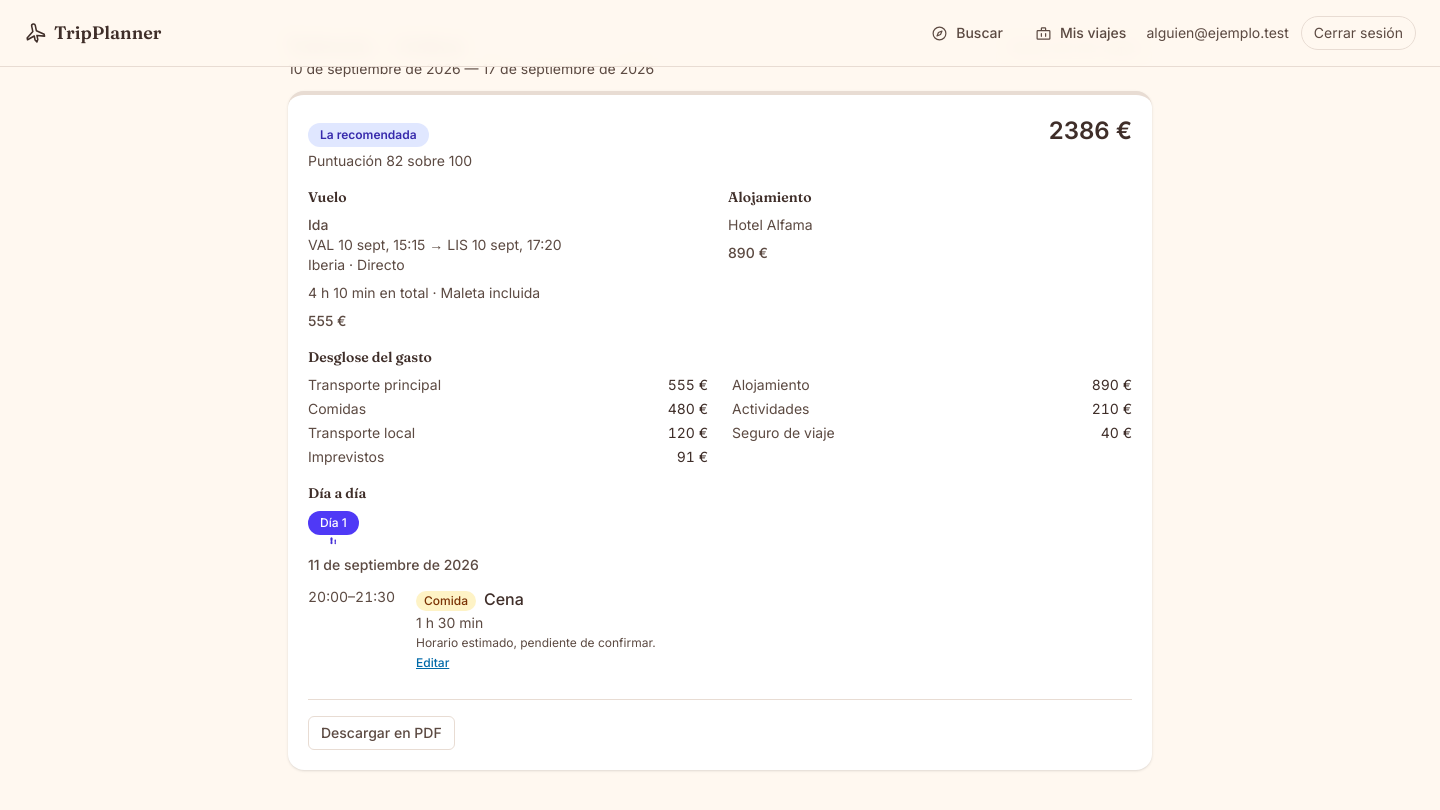
Test: Mis viajes guardados — edición del itinerario › marca el bloque como editado en cuanto el servidor confirma
(page scrolled)
Click the button "Editar" at (433, 663), box [416,655,449,671]
(page scrolled)
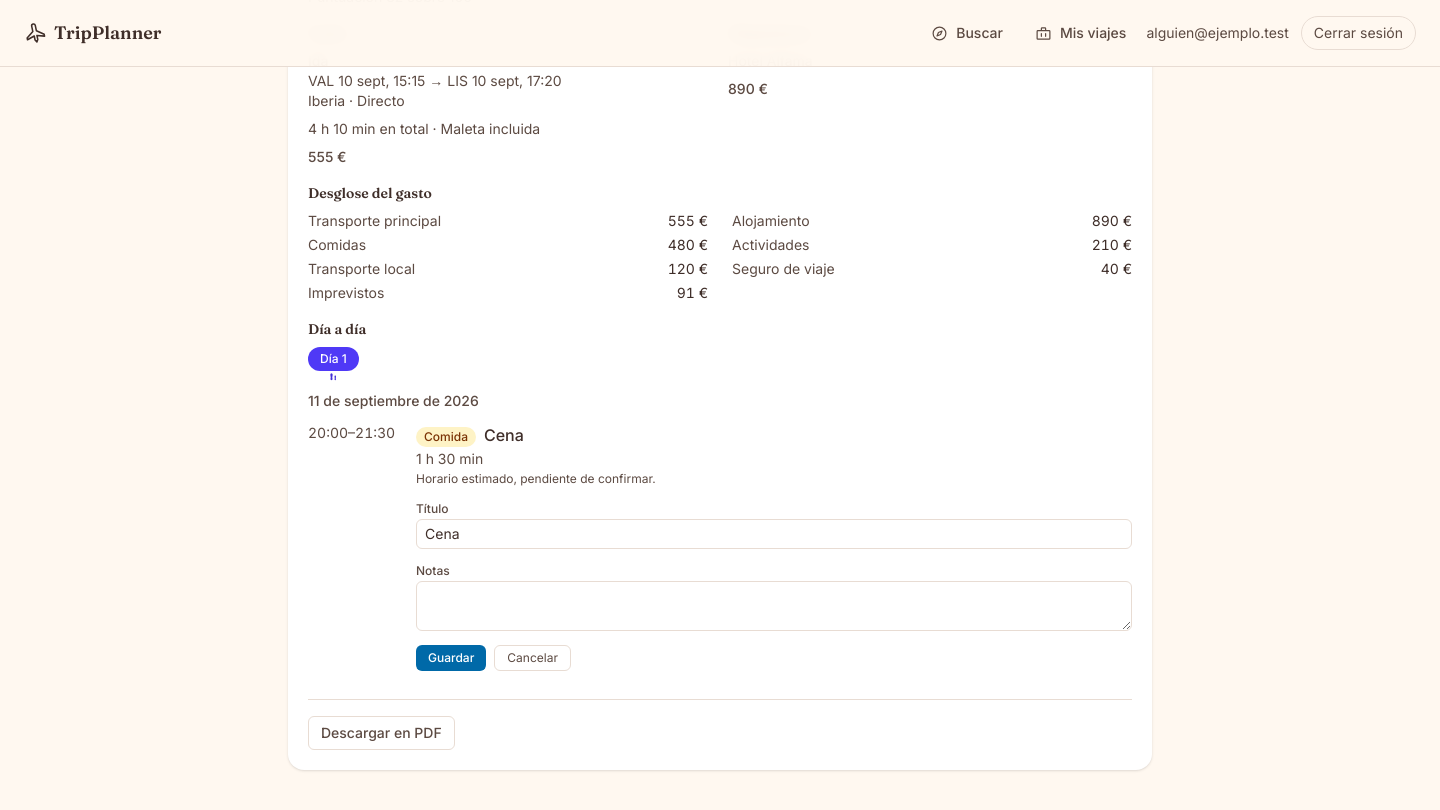
Click the button "Guardar" at (451, 658), box [416,645,486,671]
(page scrolled)
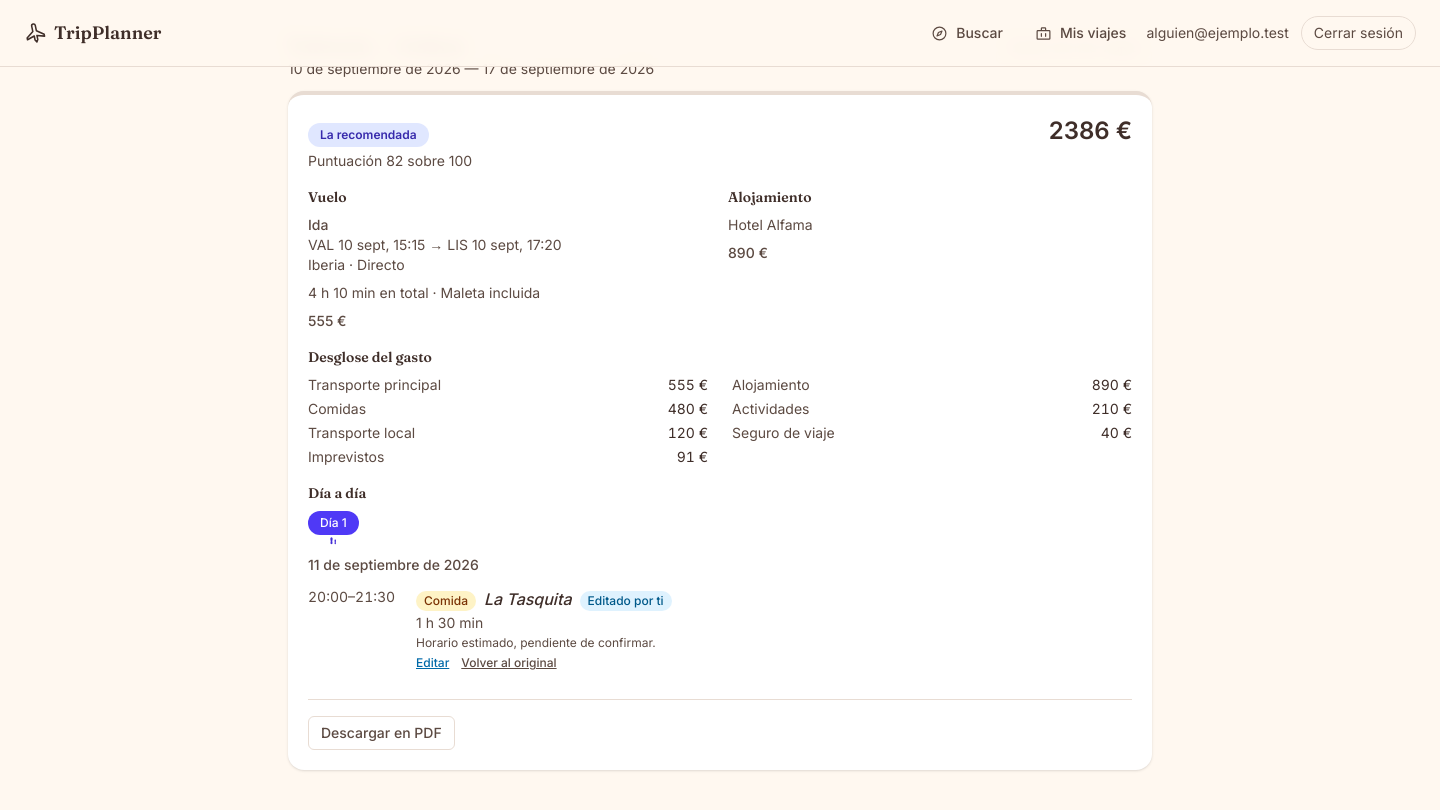
Expected: the text "Editado por ti" is shown, [580,591,672,611]
Expected: the text "La Tasquita" is shown, [484,587,572,611]
